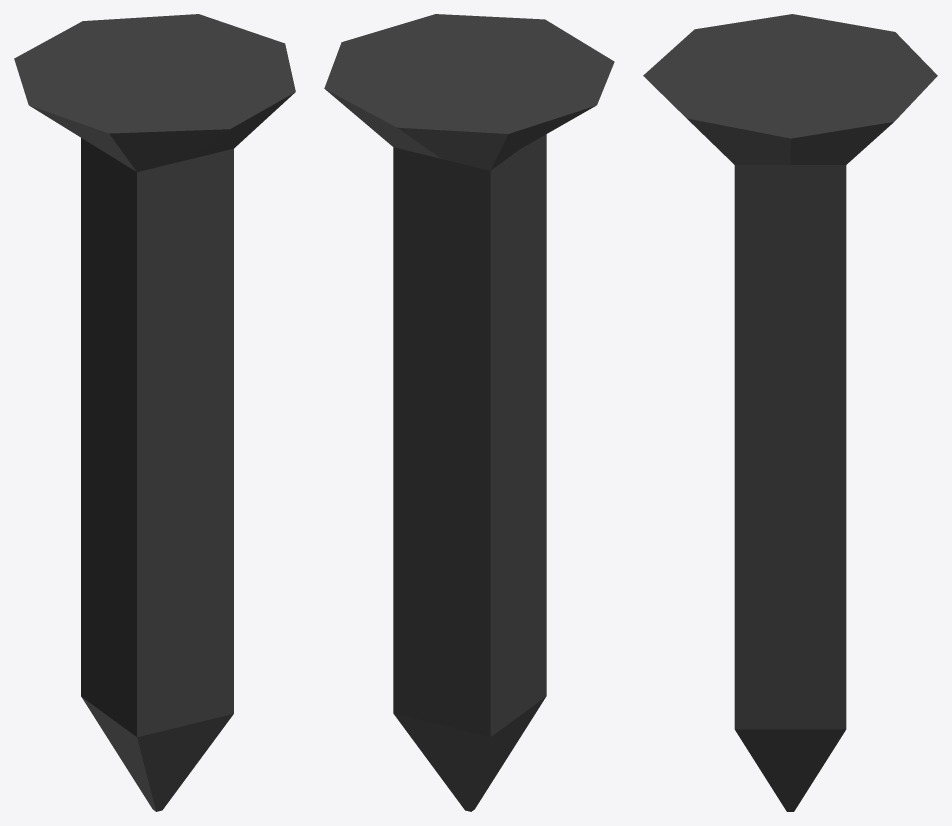
Rendered from nail.fbx.
3 renders of one model, left to right at view 1: azimuth 30°, elevation 25°; view 2: azimuth 150°, elevation 25°; view 3: azimuth 270°, elevation 25°, orthographic.
Visible parts, largest first — view 1: nail; view 2: nail; view 3: nail.
Boxes of the visible parts, bbox=[...] form: nail: bbox=[14, 14, 295, 811]; nail: bbox=[324, 14, 614, 811]; nail: bbox=[643, 14, 937, 811].
Bounding box in the file's own units: 3.39 × 9.32 × 3.39.
